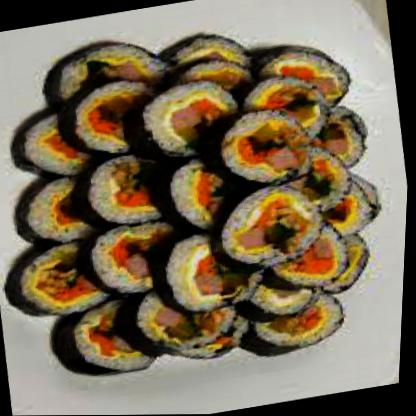rice: (0, 4, 412, 389)
